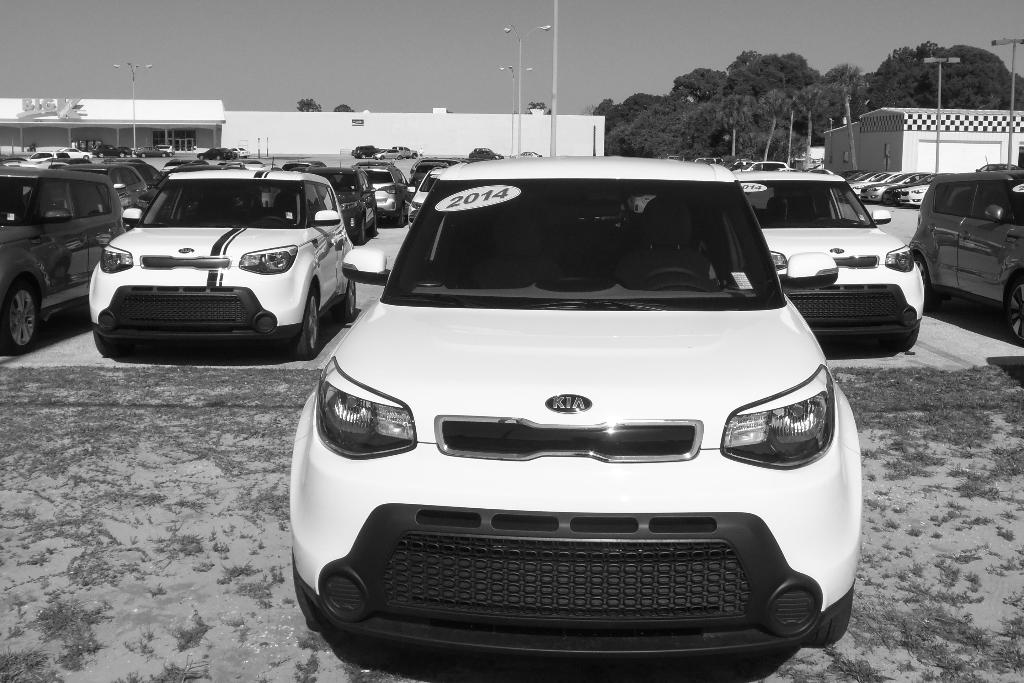Car: (289, 157, 864, 655), (90, 169, 353, 356), (732, 160, 925, 349), (0, 169, 125, 353), (909, 170, 1024, 344)
